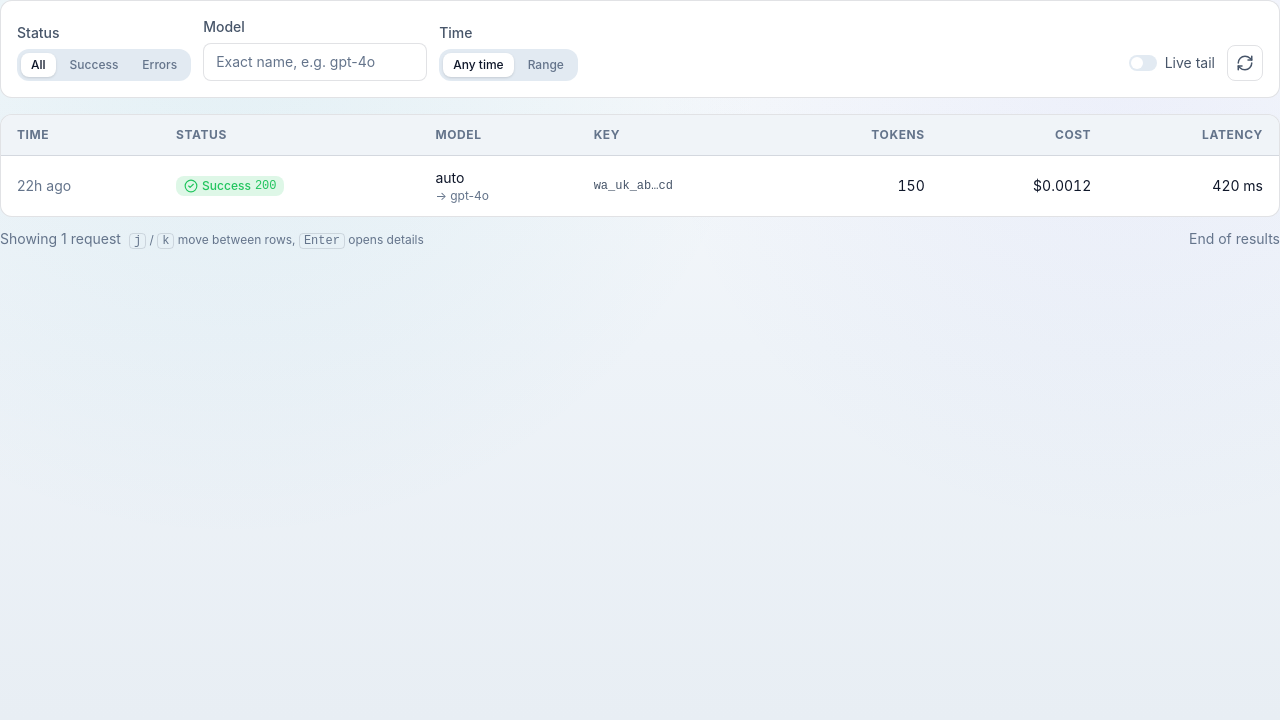
it: RequestLogsPage deep link (?request=) › opening a row puts its id in the URL
Click the button with aria-label "view details for request" at point(44, 186), box left=17, top=176, right=71, bottom=196
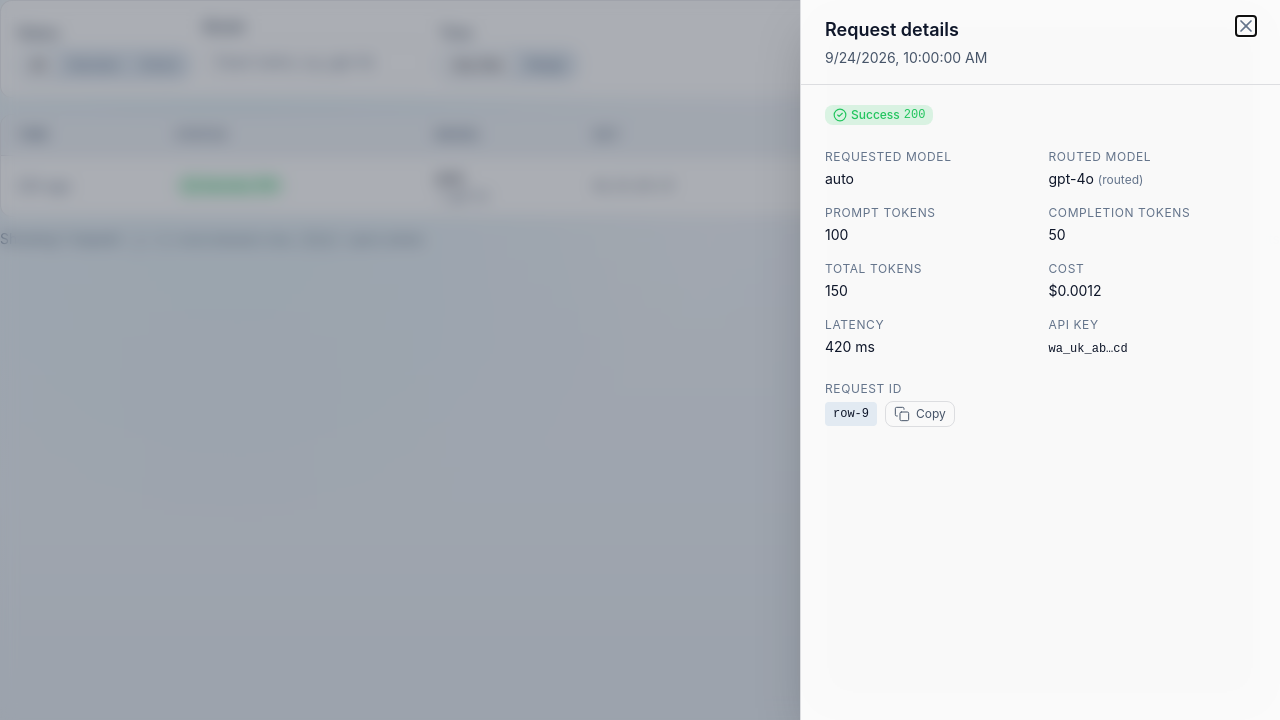
Now the dialog "Request details" is shown, box left=800, top=0, right=1279, bottom=719
Now the text "row-9" is shown, box left=825, top=402, right=877, bottom=426
